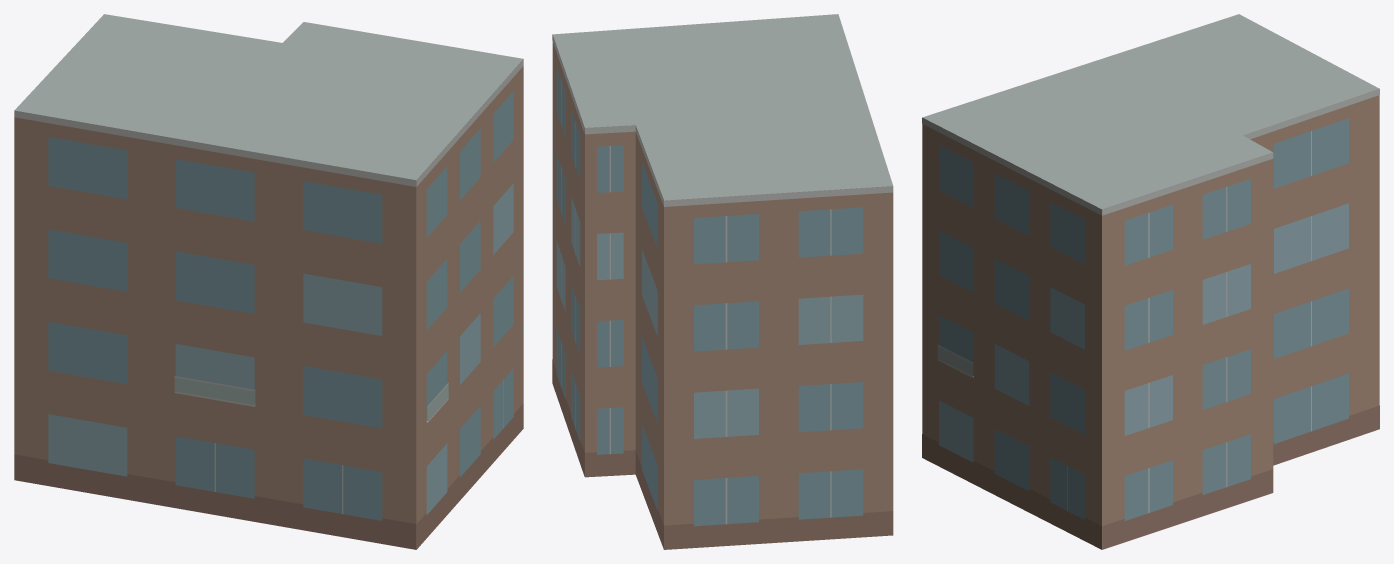
Rendered from survey-upis-32731000.glb.
3 renders of one model, left to right at view 1: azimuth 30°, elevation 25°; view 2: azimuth 150°, elevation 25°; view 3: azimuth 270°, elevation 25°, orthographic. The views are drawn at different scales.
Parts seen in each view (by area): view 1: survey-upis-32731000.tmp; view 2: survey-upis-32731000.tmp; view 3: survey-upis-32731000.tmp.
Part boxes in pixels (bbox=[...]): survey-upis-32731000.tmp: bbox=[14, 14, 523, 549]; survey-upis-32731000.tmp: bbox=[552, 14, 893, 549]; survey-upis-32731000.tmp: bbox=[922, 14, 1379, 549].
Bounding box in the file's own units: 16.32 × 13.25 × 16.15.
